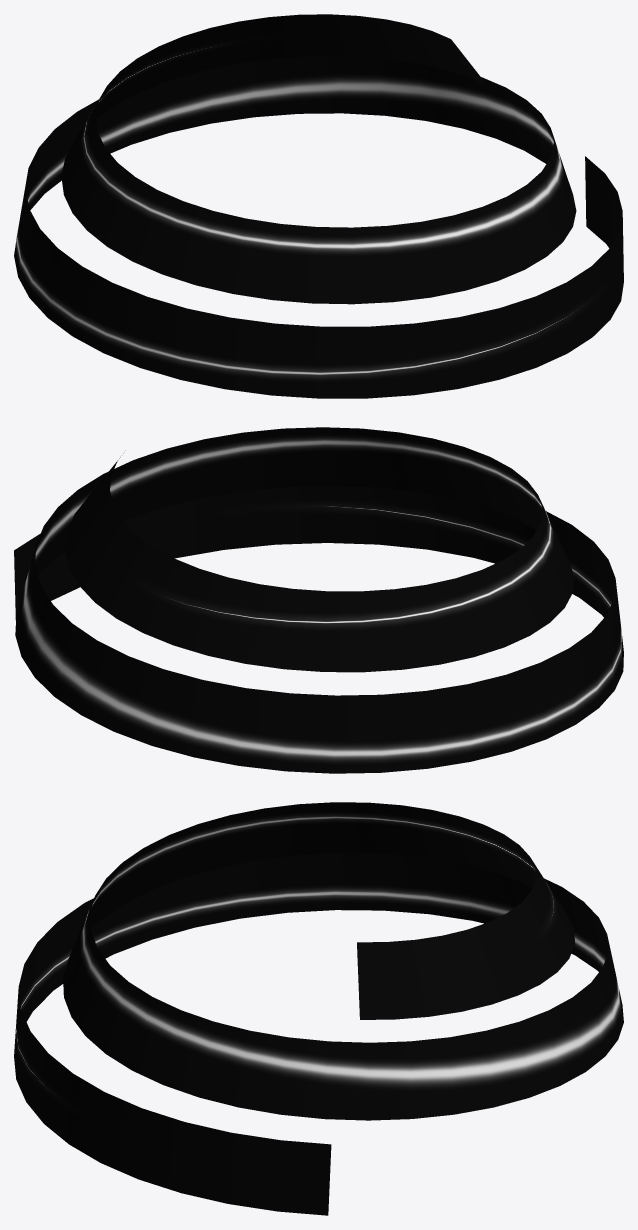
File: Helix_7.FBX
3 views of the same model, one above another, from view 1: azimuth 30°, elevation 25°; view 2: azimuth 150°, elevation 25°; view 3: azimuth 270°, elevation 25° (orthographic). The views are drawn at different scales.
Visible parts, largest first — view 1: Helix_7; view 2: Helix_7; view 3: Helix_7.
Boxes of the visible parts, x1=… form: Helix_7: x1=14, y1=14, x2=623, y2=398; Helix_7: x1=14, y1=427, x2=623, y2=773; Helix_7: x1=14, y1=802, x2=623, y2=1215.
Size of the model in its own units: 34.32 by 12.68 by 32.98.
1 material, 1 textured.
